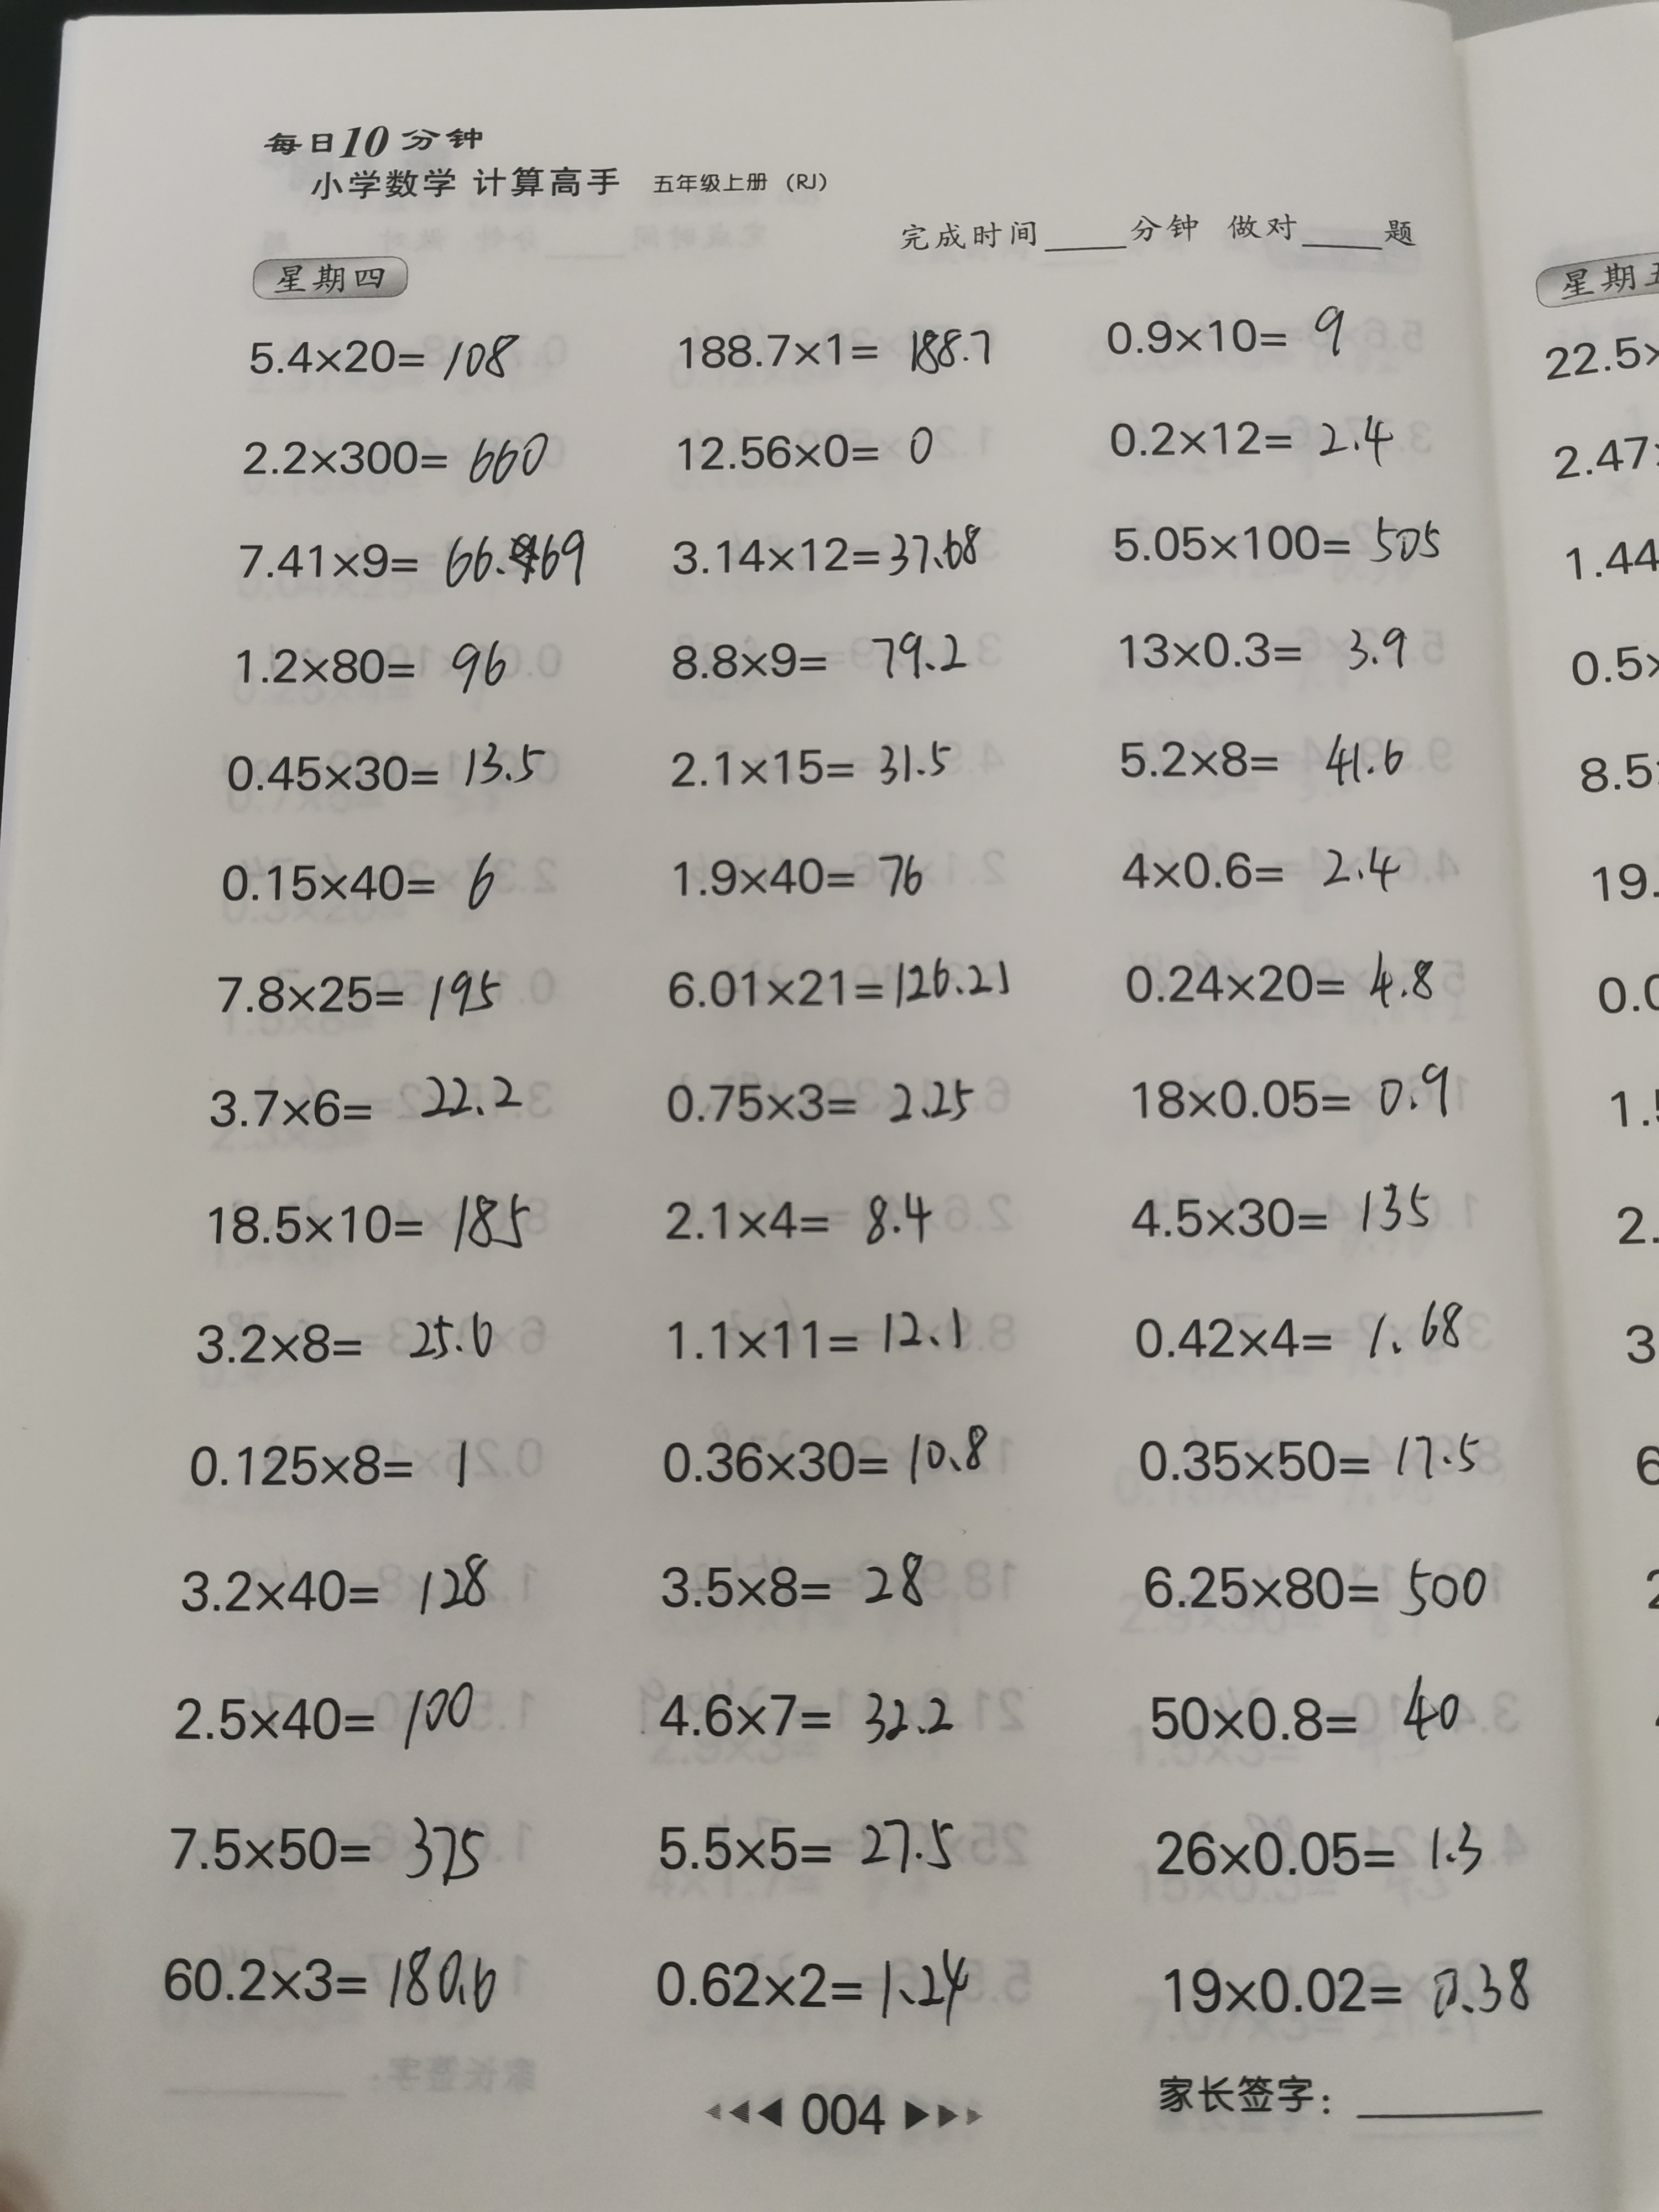equation: (1141, 1940, 1568, 2024), (150, 1799, 500, 1900), (145, 1939, 523, 2029), (633, 1939, 990, 2034), (641, 935, 1037, 1021), (157, 1543, 525, 1634), (190, 1170, 551, 1261), (1121, 1540, 1509, 1623), (1122, 1418, 1502, 1501), (640, 1413, 1018, 1496), (1127, 1811, 1504, 1893), (641, 1054, 999, 1139), (1117, 1289, 1488, 1371), (633, 1531, 960, 1623), (641, 1298, 1009, 1379), (1103, 941, 1452, 1026), (1108, 1050, 1476, 1130), (1098, 707, 1429, 796), (152, 1676, 500, 1759), (218, 523, 594, 599), (647, 714, 981, 799), (631, 1672, 971, 1756), (631, 1806, 976, 1888), (1117, 1676, 1485, 1752), (1098, 498, 1460, 575), (655, 310, 1012, 387), (202, 728, 556, 805), (1098, 611, 1429, 691), (636, 1181, 981, 1258), (655, 517, 1007, 592), (178, 1425, 498, 1505), (227, 418, 566, 493), (1107, 824, 1422, 904), (1107, 1176, 1455, 1247), (190, 954, 519, 1029), (185, 1303, 519, 1374), (647, 834, 965, 909), (190, 1068, 538, 1136), (647, 617, 986, 686), (211, 846, 525, 921), (1087, 409, 1408, 481), (1087, 296, 1363, 373), (225, 324, 551, 387), (659, 420, 960, 486), (218, 636, 533, 697)
